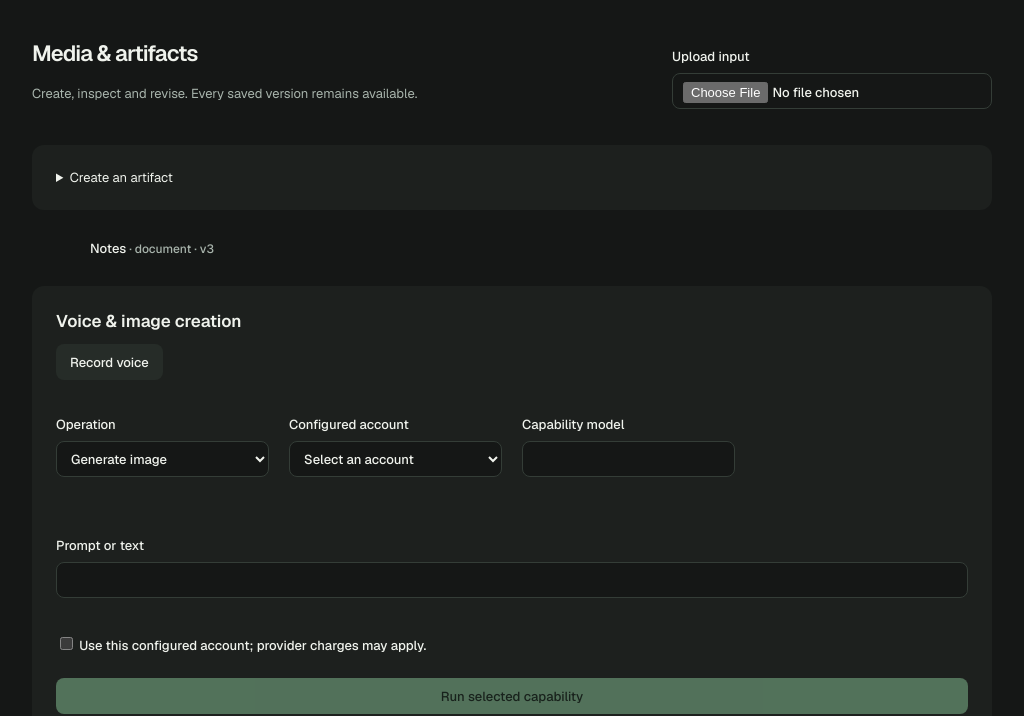
Test: retains edits typed during a pending save and advances only their saved base version
Click the button "Notes · document · v3" at (152, 248), box x1=32 y1=230 x2=272 y2=266
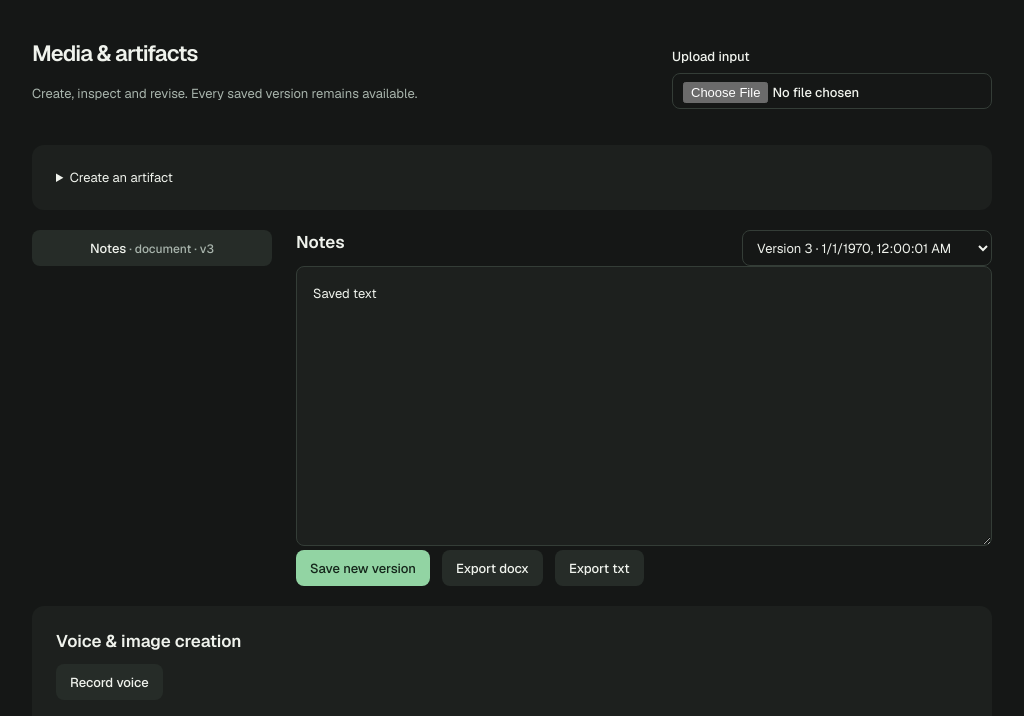
Replace the text in the text box named "Artifact content" with "Submitted edit" at (644, 406), box x1=296 y1=266 x2=992 y2=546
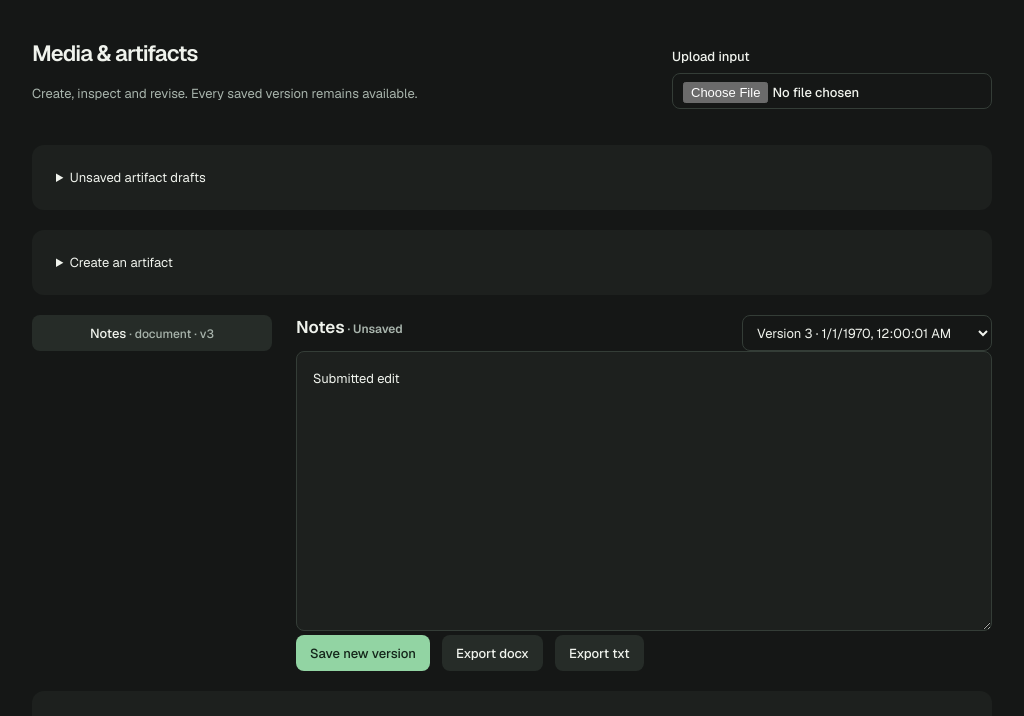
Click the button "Save new version" at (363, 653), box x1=296 y1=635 x2=430 y2=671
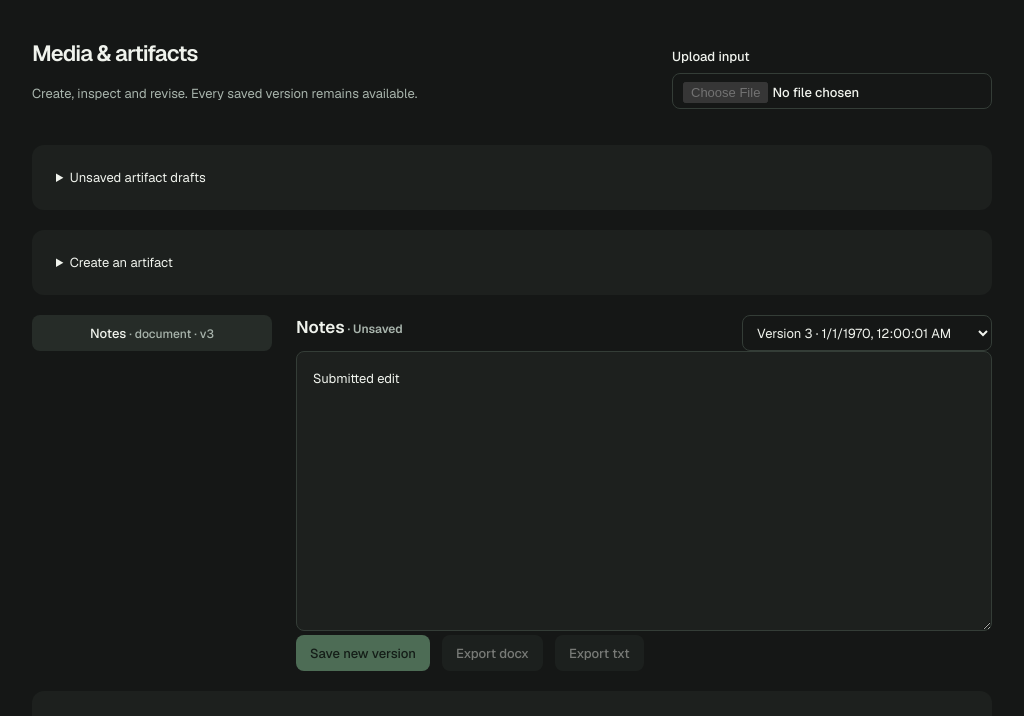
Replace the text in the text box named "Artifact content" with "Newer edit typed while server saves" at (644, 491), box x1=296 y1=351 x2=992 y2=631
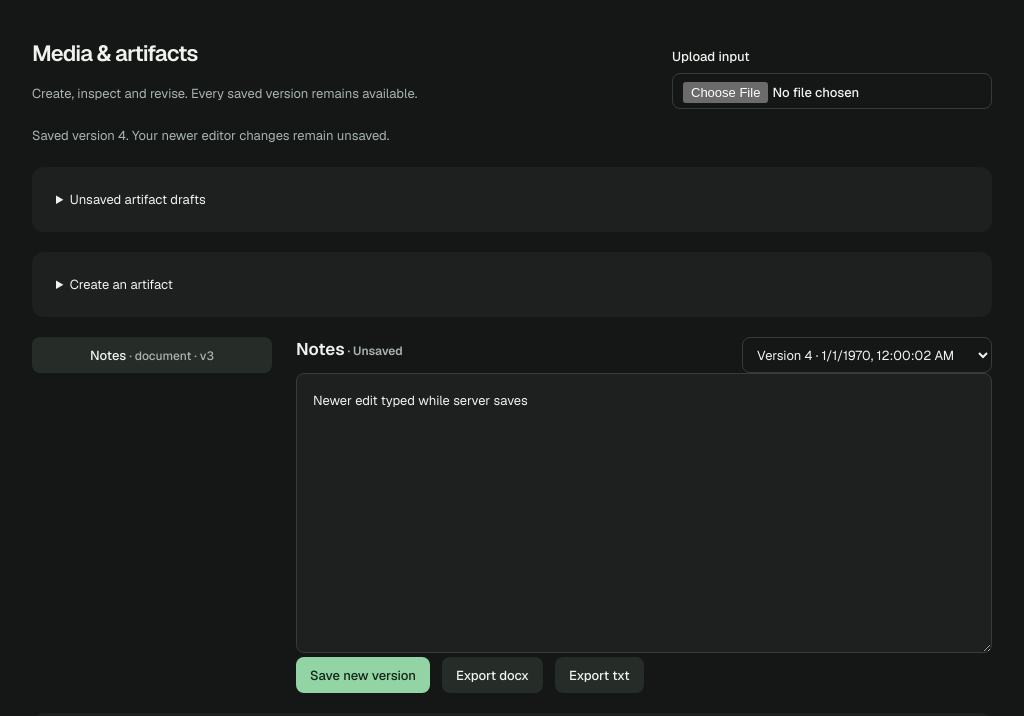
Now the text "Saved version 4. Your newer editor changes remain unsaved." is shown, box x1=32 y1=127 x2=390 y2=144
